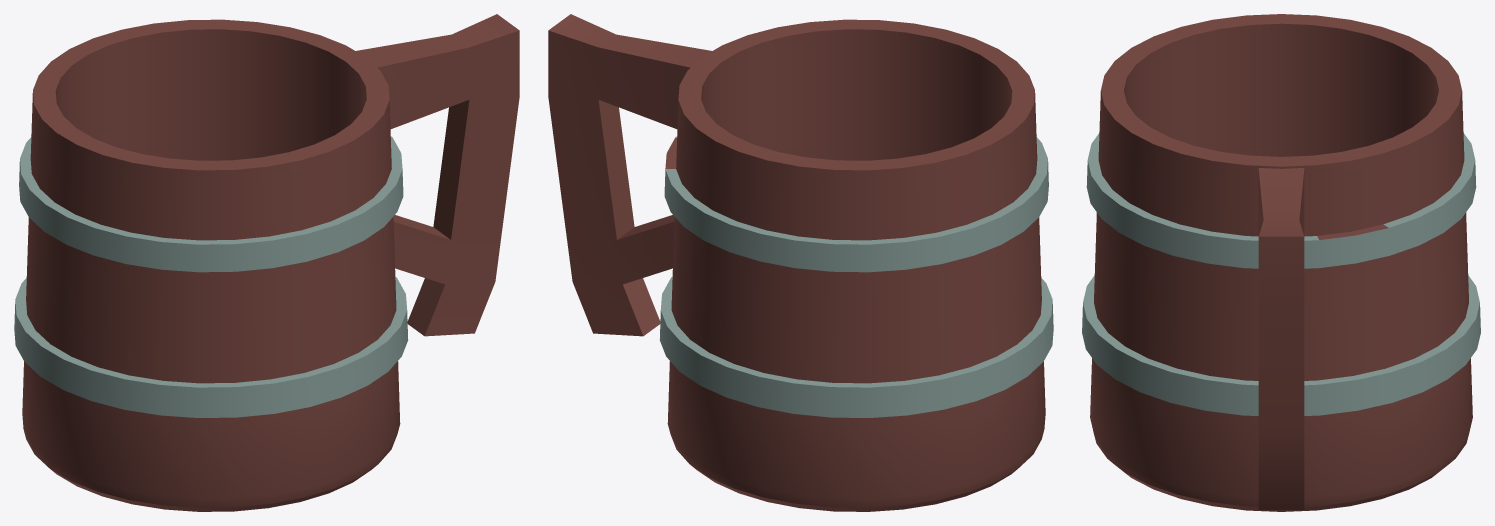
Rendered from Mug.fbx.
The picture shows the model from 3 angles, left to right: view 1: azimuth 30°, elevation 25°; view 2: azimuth 150°, elevation 25°; view 3: azimuth 270°, elevation 25°; orthographic projection.
Parts seen in each view (by area): view 1: Cylinder; view 2: Cylinder; view 3: Cylinder.
Part boxes in pixels (x1,y1,x2,y2): Cylinder: (14, 14, 519, 511); Cylinder: (548, 14, 1053, 511); Cylinder: (1082, 14, 1480, 511).
Size of the model in its own units: 284 by 200 by 208.
